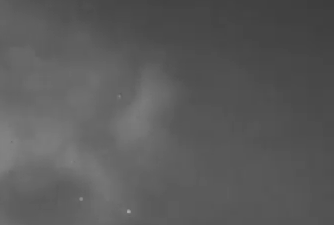Target: (80, 96, 131, 212)
